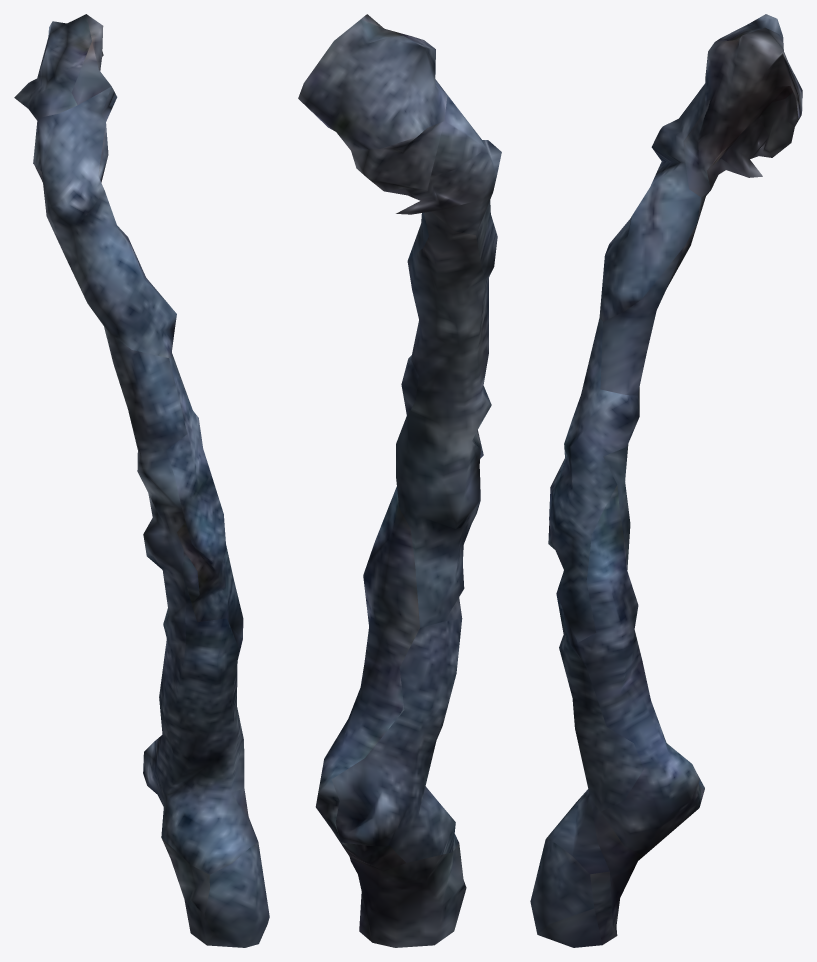
Rendered from tree_dead_twisted_far.glb.
3 renders of one model, left to right at view 1: azimuth 30°, elevation 25°; view 2: azimuth 150°, elevation 25°; view 3: azimuth 270°, elevation 25°, orthographic. The views are drawn at different scales.
Parts seen in each view (by area): view 1: Dead Tree; view 2: Dead Tree; view 3: Dead Tree.
Part boxes in pixels (box(x1,y1,x2,y2)): Dead Tree: box(14, 14, 269, 947); Dead Tree: box(298, 14, 501, 947); Dead Tree: box(530, 14, 802, 947).
Bounding box in the file's own units: 1.52 × 7.45 × 2.09.
1 material, 1 textured.
